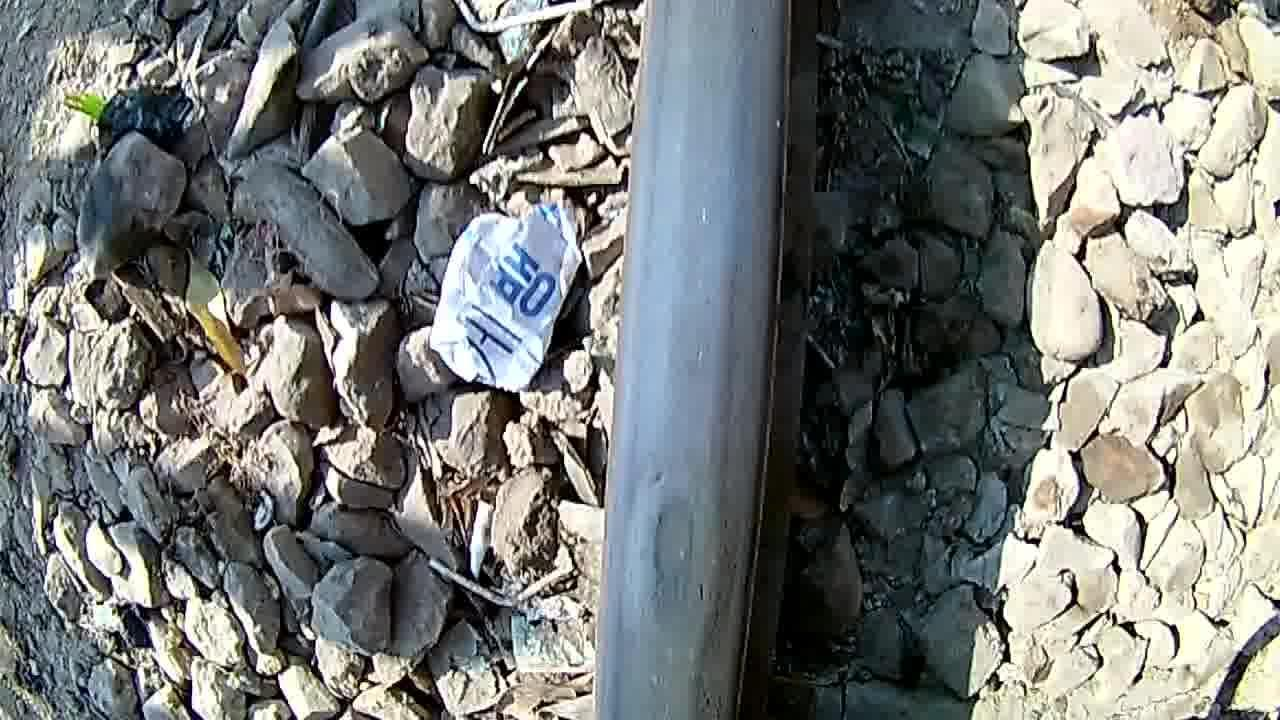crack: (601, 429, 767, 687)
